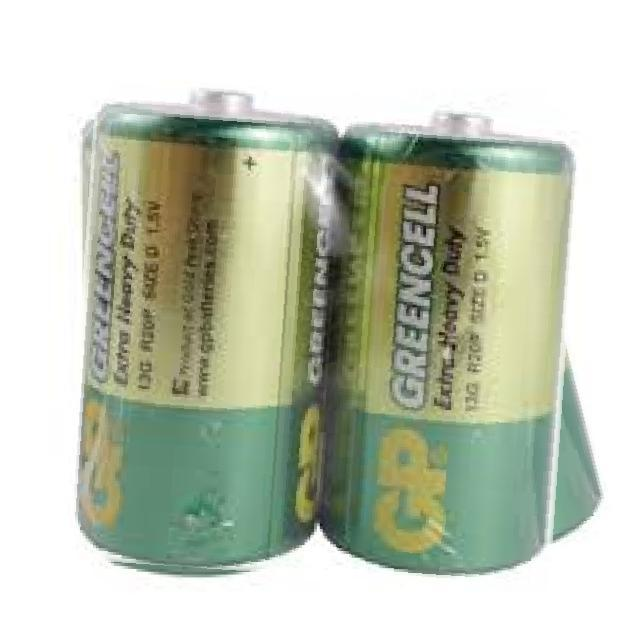Battery: (68, 84, 335, 588), (312, 64, 569, 580)
